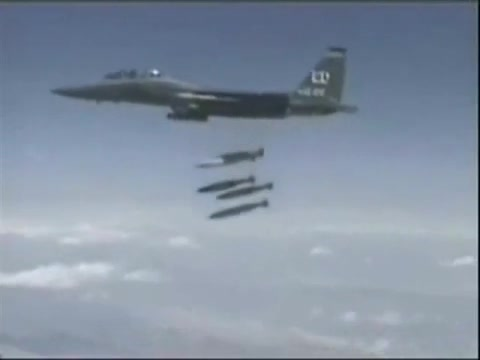aeroplane: (53, 47, 363, 125)
